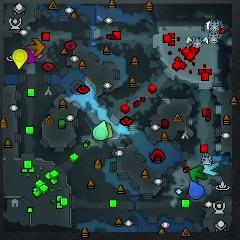p1: (187, 180, 205, 200)
p2: (94, 119, 110, 141)
p3: (18, 49, 37, 64)
p4: (12, 49, 27, 71)
x2: (103, 121, 116, 140)
x3: (204, 161, 221, 176)
x4: (188, 166, 208, 181)
x5: (27, 40, 45, 56)
